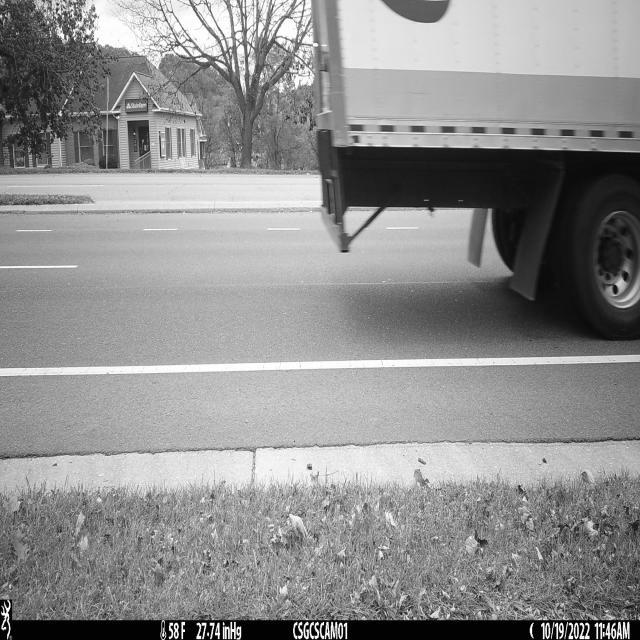Box Truck: (310, 0, 640, 343)
